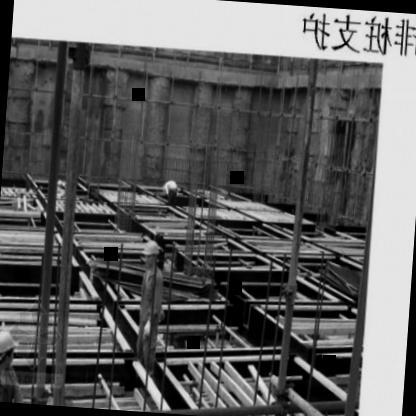helmet: (0, 326, 18, 370), (140, 238, 160, 274)
